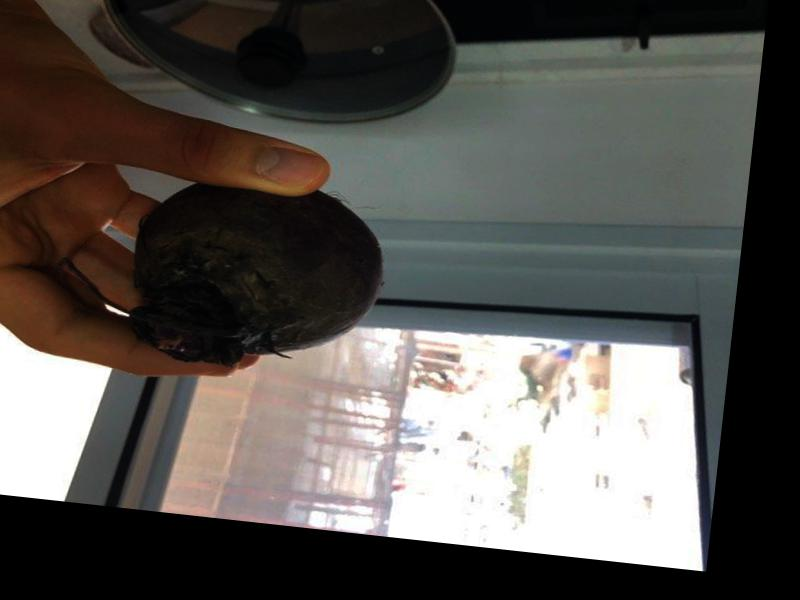Beet: (51, 161, 391, 382)
